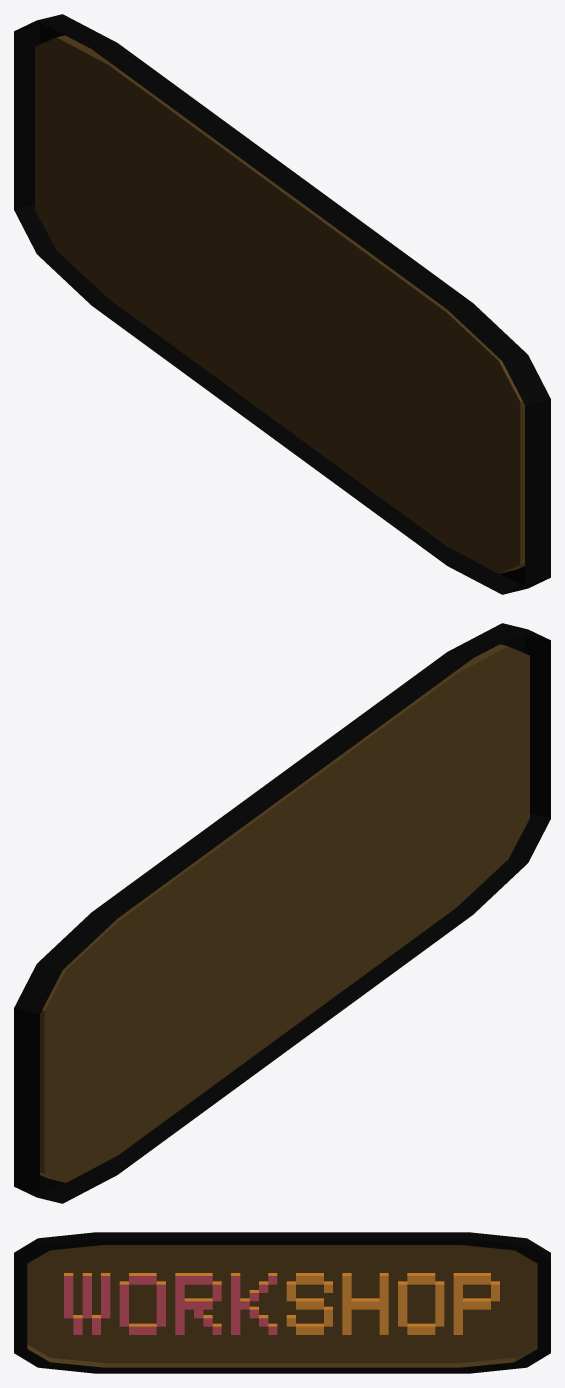
Rendered from WorkShop3DText.fbx.
3 renders of one model, top to bottom at view 1: azimuth 30°, elevation 25°; view 2: azimuth 150°, elevation 25°; view 3: azimuth 270°, elevation 25°, orthographic. The views are drawn at different scales.
Visible parts, largest first — view 1: Cube; view 2: Cube; view 3: Cube, Text.
Part boxes in pixels (<box>): Cube: <box>14,14,550,594</box>; Cube: <box>14,623,550,1203</box>; Cube: <box>14,1232,550,1373</box>; Text: <box>64,1273,499,1334</box>.
Bounding box in the file's own units: 27.09 × 256 × 924.
1 material, 1 textured.
